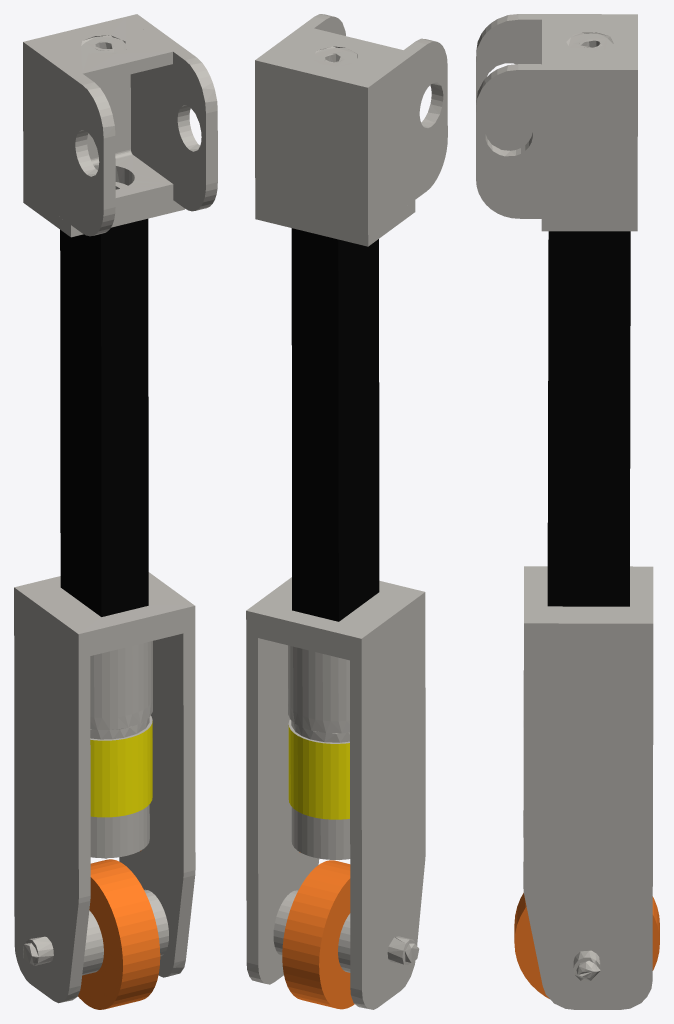
The model's file is hombro.obj.
The picture shows the model from 3 angles, left to right: view 1: azimuth 30°, elevation 25°; view 2: azimuth 150°, elevation 25°; view 3: azimuth 270°, elevation 25°; orthographic projection.
Visible parts, largest first — view 1: Object.1; view 2: Object.1; view 3: Object.1.
Boxes of the visible parts, box(x1,y1,x2,y2) form: Object.1: box(14, 14, 217, 1009); Object.1: box(246, 14, 447, 1009); Object.1: box(476, 14, 659, 1009).
Bounding box in the file's own units: 85.63 × 490 × 85.32.
